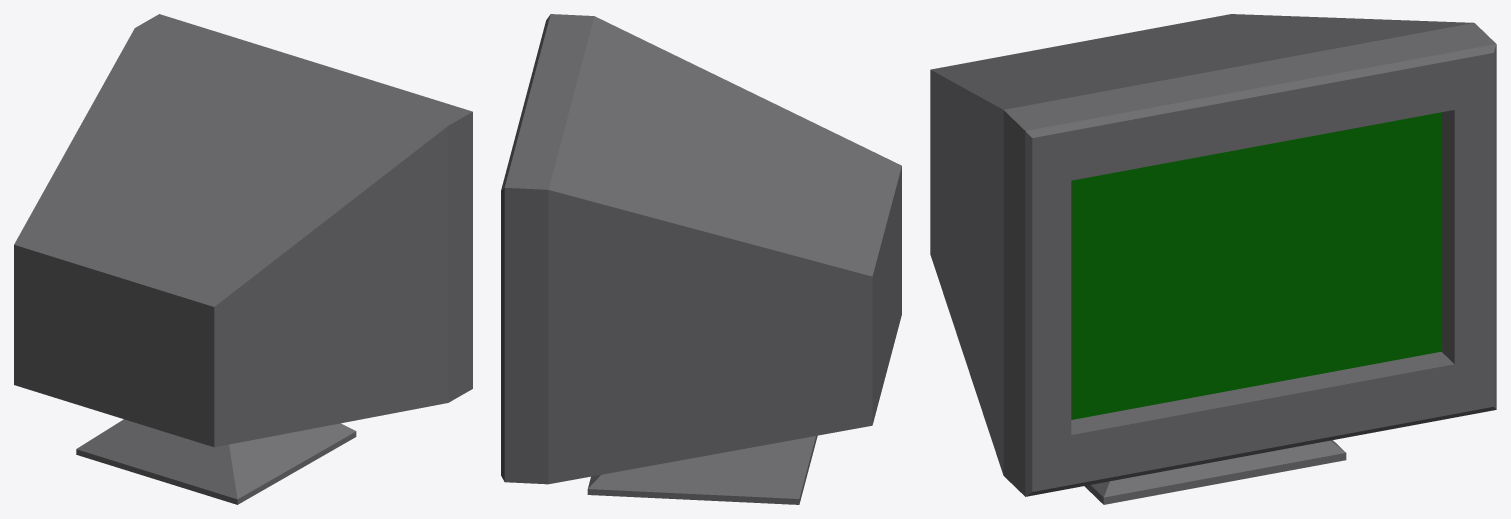
The model's file is testpc.glb.
The picture shows the model from 3 angles, left to right: view 1: azimuth 30°, elevation 25°; view 2: azimuth 150°, elevation 25°; view 3: azimuth 270°, elevation 25°; orthographic projection. The views are drawn at different scales.
Parts seen in each view (by area): view 1: Monitor; view 2: Monitor; view 3: Monitor.
Boxes of the visible parts, x1,y1,x2,y2 form: Monitor: [14, 14, 472, 504]; Monitor: [501, 14, 901, 504]; Monitor: [930, 14, 1496, 504].
Bounding box in the file's own units: 1.95 × 1.58 × 1.89.
